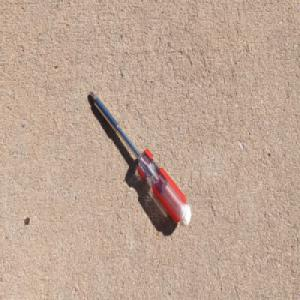Screwdriver: (88, 89, 192, 229)
